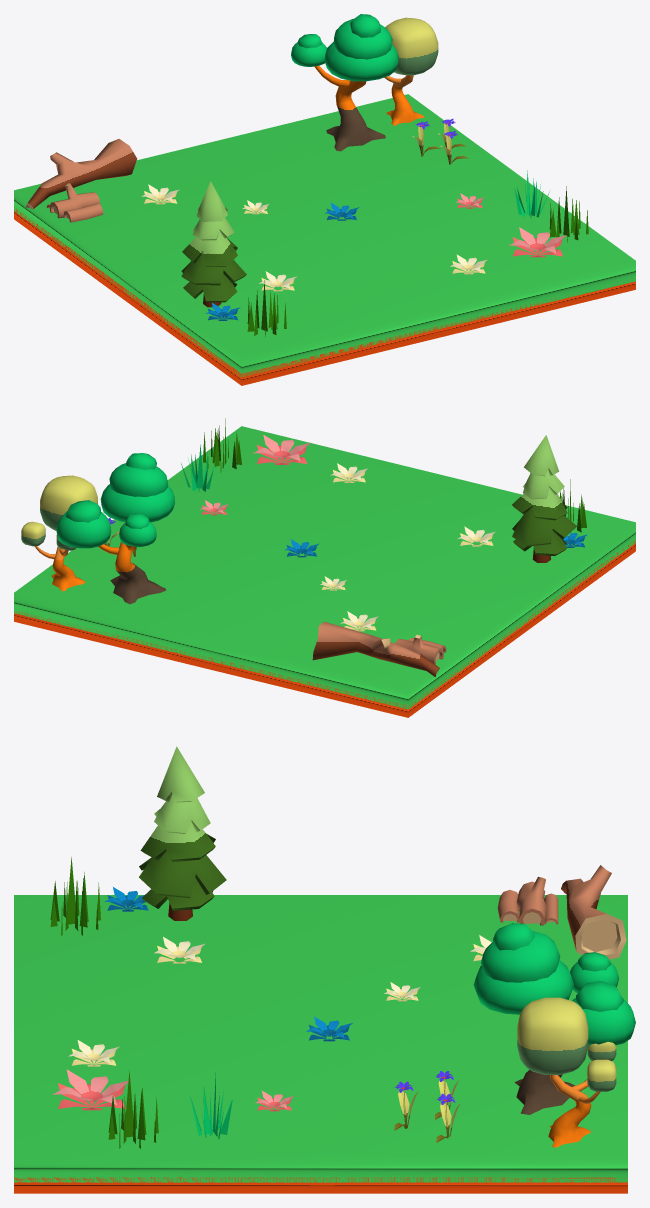
File: forest.glb
3 renders of one model, top to bottom at view 1: azimuth 30°, elevation 25°; view 2: azimuth 150°, elevation 25°; view 3: azimuth 270°, elevation 25°, orthographic. The views are drawn at different scales.
Parts seen in each view (by area): view 1: Cube, Cube.001, Tree.015, Tree.009, Tree.011, Tree.025, Stump.002, Flowers.004, Grass.001, Grass.004, Grass.003; view 2: Cube, Tree.015, Cube.001, Tree.009, Tree.011, Tree.025, Flowers.004, Grass.004, Stump.002, Grass.003, Flowers.005, Flowers.001 (+1 smaller); view 3: Cube, Tree.015, Cube.001, Tree.009, Tree.011, Tree.025, Stump.002, Flowers.004, Grass.001, Grass.004, Grass.003, Flowers.005 (+3 smaller).
Part boxes in pixels (left/top/right/bottom): Cube: left=14, top=94, right=635, bottom=376; Cube.001: left=14, top=207, right=635, bottom=385; Tree.015: left=291, top=14, right=398, bottom=151; Tree.009: left=181, top=181, right=246, bottom=307; Tree.011: left=384, top=17, right=438, bottom=125; Tree.025: left=26, top=139, right=137, bottom=209; Stump.002: left=46, top=183, right=103, bottom=222; Flowers.004: left=508, top=227, right=566, bottom=257; Grass.001: left=247, top=280, right=286, bottom=336; Grass.004: left=549, top=186, right=588, bottom=242; Grass.003: left=514, top=170, right=550, bottom=218; Cube: left=14, top=426, right=635, bottom=709; Tree.015: left=56, top=453, right=174, bottom=604; Cube.001: left=14, top=539, right=635, bottom=717; Tree.009: left=512, top=435, right=576, bottom=562; Tree.011: left=21, top=475, right=97, bottom=591; Tree.025: left=312, top=621, right=439, bottom=676; Flowers.004: left=253, top=435, right=310, bottom=464; Grass.004: left=203, top=418, right=241, bottom=472; Stump.002: left=395, top=634, right=446, bottom=664; Grass.003: left=181, top=444, right=215, bottom=492; Flowers.005: left=330, top=463, right=367, bottom=482; Flowers.001: left=340, top=611, right=378, bottom=631; Cube: left=14, top=895, right=627, bottom=1182; Tree.015: left=473, top=923, right=635, bottom=1114; Cube.001: left=14, top=1177, right=627, bottom=1193; Tree.009: left=139, top=746, right=226, bottom=920; Tree.011: left=517, top=997, right=616, bottom=1147; Tree.025: left=561, top=865, right=626, bottom=959; Stump.002: left=497, top=876, right=558, bottom=925; Flowers.004: left=53, top=1069, right=130, bottom=1110; Grass.001: left=50, top=857, right=100, bottom=935; Grass.004: left=108, top=1070, right=158, bottom=1148; Grass.003: left=190, top=1072, right=232, bottom=1139; Flowers.005: left=68, top=1040, right=119, bottom=1066.
Size of the model in its own units: 20.4 by 7.65 by 20.26.
Materials: 21 (19 with a texture image).
